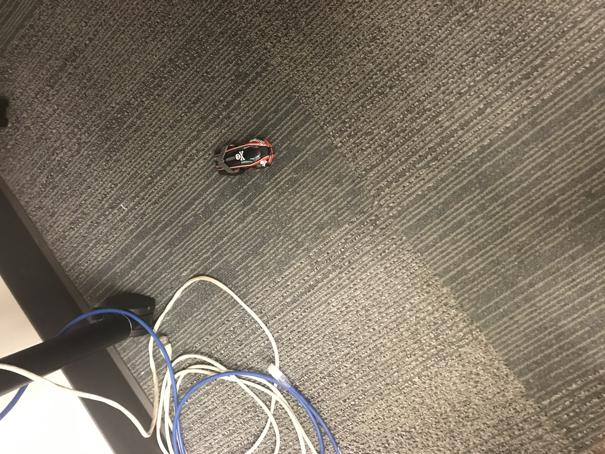Skull: (211, 135, 275, 177)
